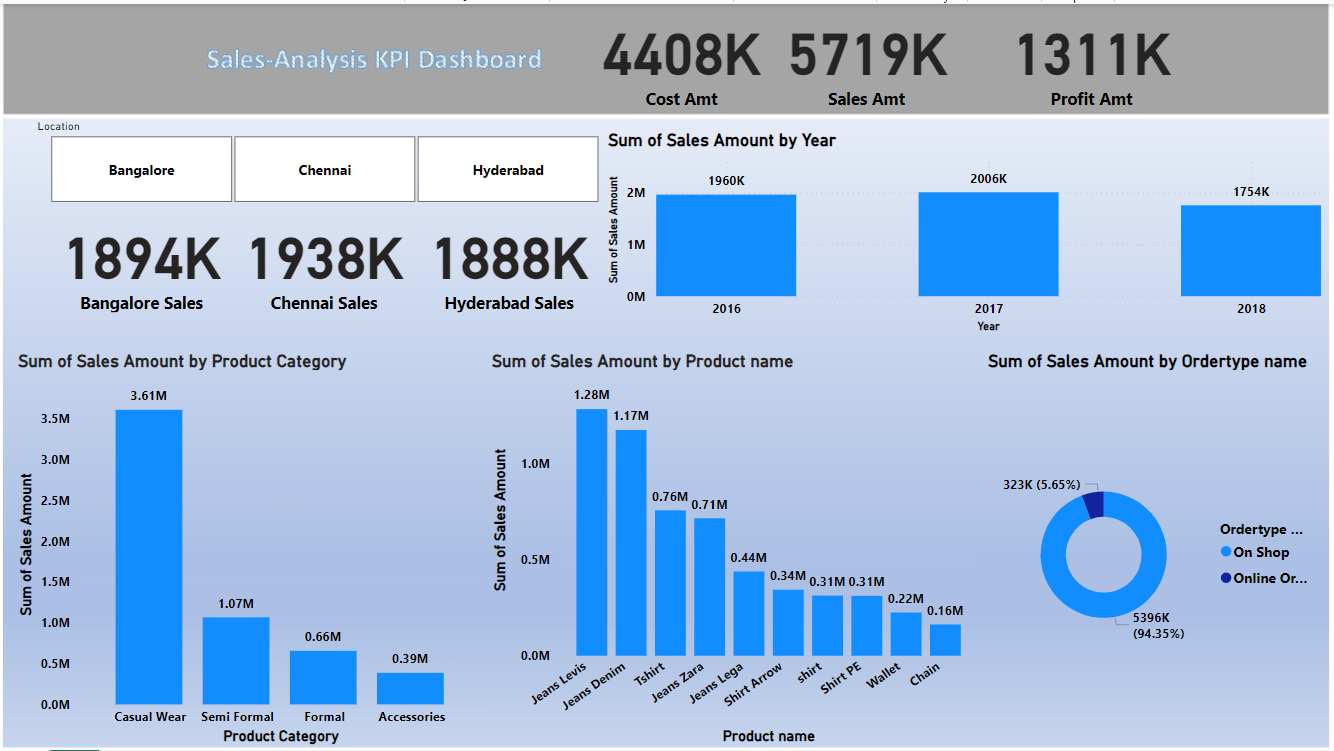

The page's visual inventory and layout, read from the dashboard file:
{"tool":"powerbi","page":{"name":"Page 1","canvas":[1550,720],"ordinal":0},"visuals":[{"type":"card","fields":{"Values":["Data.Cost Amt"]},"box":[699.8,0,178.8,105.6],"z":0},{"type":"card","fields":{"Values":["Data.Sales Amt"]},"box":[878.6,0,178.8,105.6],"z":1000},{"type":"card","fields":{"Values":["Data.Profit Amt"]},"box":[1095.5,0,178.8,105.6],"z":2000},{"type":"slicer","fields":{"Values":["Data.Location"]},"box":[154.9,105.6,578.7,91.5],"z":3000},{"type":"card","fields":{"Values":["Data.Bangalore Sales"]},"box":[178.8,197.1,178.8,105.6],"z":4000},{"type":"card","fields":{"Values":["Data.Chennai Sales"]},"box":[354.8,197.1,178.8,105.6],"z":5000},{"type":"card","fields":{"Values":["Data.Hyderabad Sales"]},"box":[533.7,197.1,178.8,105.6],"z":6000},{"type":"columnChart","fields":{"Category":["Data.Product Category"],"Y":["Sum(Data.Sales Amount)"]},"box":[143.6,333.7,457.6,385.8],"z":7000},{"type":"columnChart","fields":{"Category":["Data.Product name"],"Y":["Sum(Data.Sales Amount)"]},"box":[601.2,333.7,478.7,385.8],"z":8000},{"type":"donutChart","fields":{"Category":["Data.Ordertype name"],"Y":["Sum(Data.Sales Amount)"]},"box":[1080,333.7,330.9,376],"z":9000},{"type":"columnChart","fields":{"Category":["Data.Sale date.Variation.Date Hierarchy.Year","Data.Sale date.Variation.Date Hierarchy.Quarter","Data.Sale date.Variation.Date Hierarchy.Month","Data.Sale date.Variation.Date Hierarchy.Day"],"Y":["Sum(Data.Sales Amount)"]},"box":[712.5,121.1,698.4,201.4],"z":10000}]}

Visuals, with their boxes on the page's 1550x720 design canvas (x1, y1, x2, y2). These are canvas units, not pixel positions in the 1334x751 screenshot, which may show the page scaled, cropped or inside an application window:
card - Data.Cost Amt: 700:0:879:106
card - Data.Sales Amt: 879:0:1057:106
card - Data.Profit Amt: 1096:0:1274:106
slicer - Data.Location: 155:106:734:197
card - Data.Bangalore Sales: 179:197:358:303
card - Data.Chennai Sales: 355:197:534:303
card - Data.Hyderabad Sales: 534:197:712:303
columnChart - Data.Product Category x Sum(Data.Sales Amount): 144:334:601:720
columnChart - Data.Product name x Sum(Data.Sales Amount): 601:334:1080:720
donutChart - Data.Ordertype name x Sum(Data.Sales Amount): 1080:334:1411:710
columnChart - Data.Sale date.Variation.Date Hierarchy.Year x Data.Sale date.Variation.Date Hierarchy.Quarter: 712:121:1411:322
